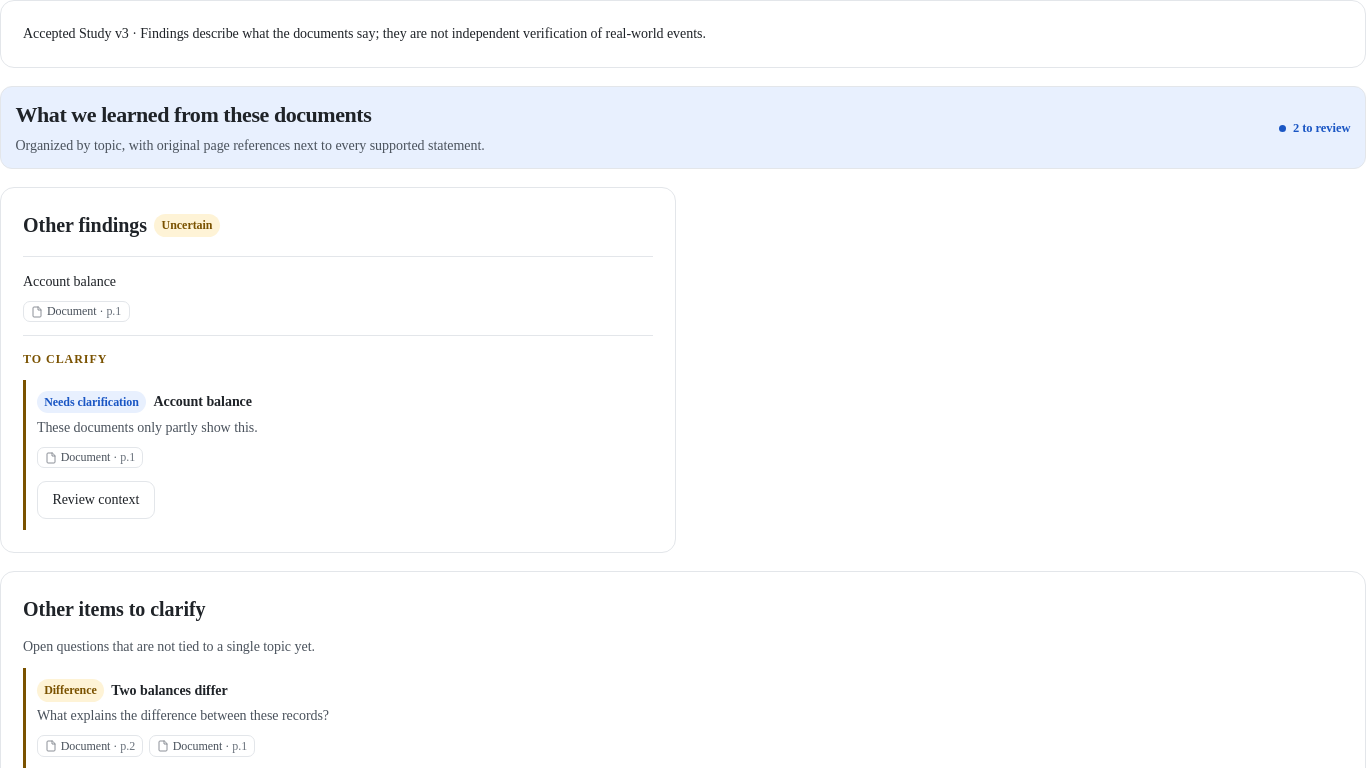
Test case: FindingsPageView evidence flow › opens the evidence view with spine context and comparison for conflicts
The width and height of the screenshot is (1366, 768).
What coordinates should you click on to do the following:
click the button "Review context"
I would click on:
 (96, 500)
Its box is [37,481,155,519].
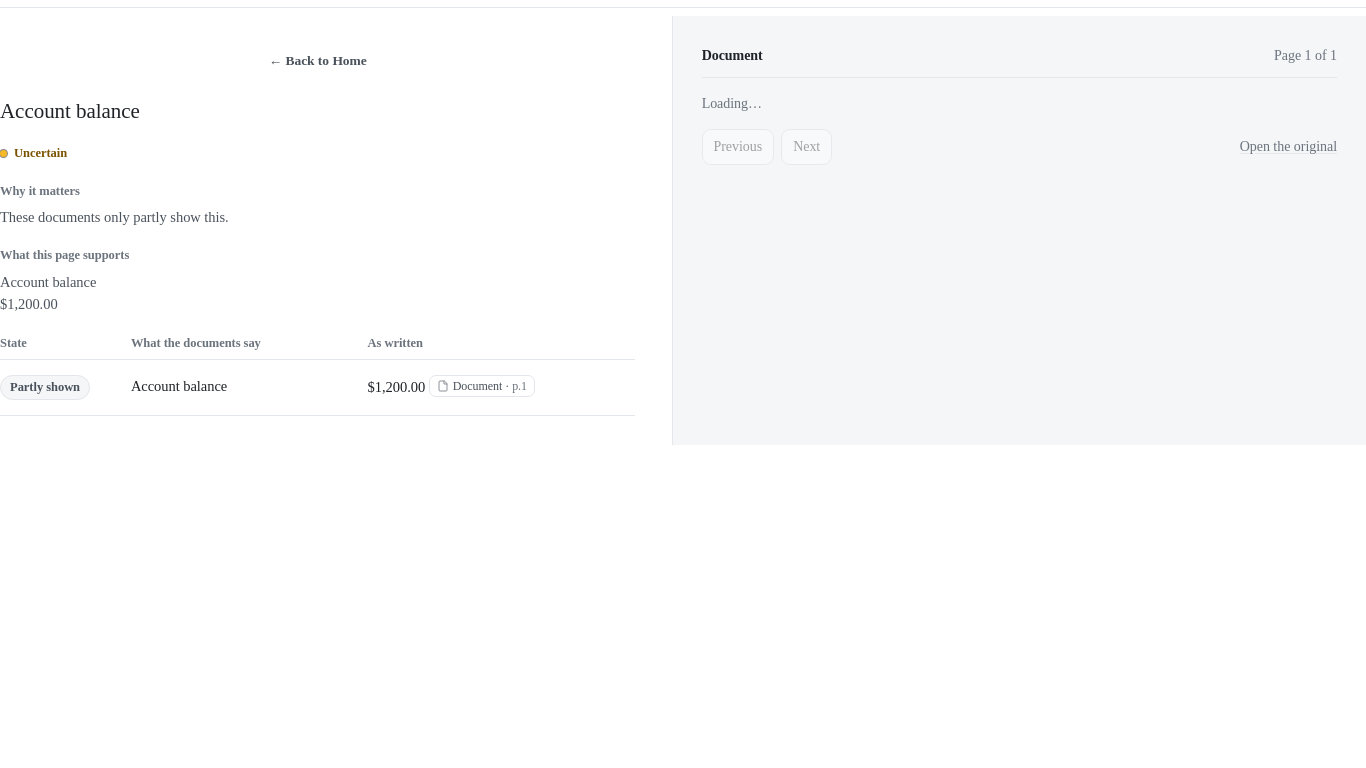
Expected: the text "These documents only partly show this." is shown, [0,209,229,225]
Expected: the table with test id "establish-table" is shown, [0,334,635,416]
What coordinates should you click on to do the following:
click the button "← Back to Home"
I would click on:
 (318, 62)
Its box is [0,44,635,78].
(page scrolled)
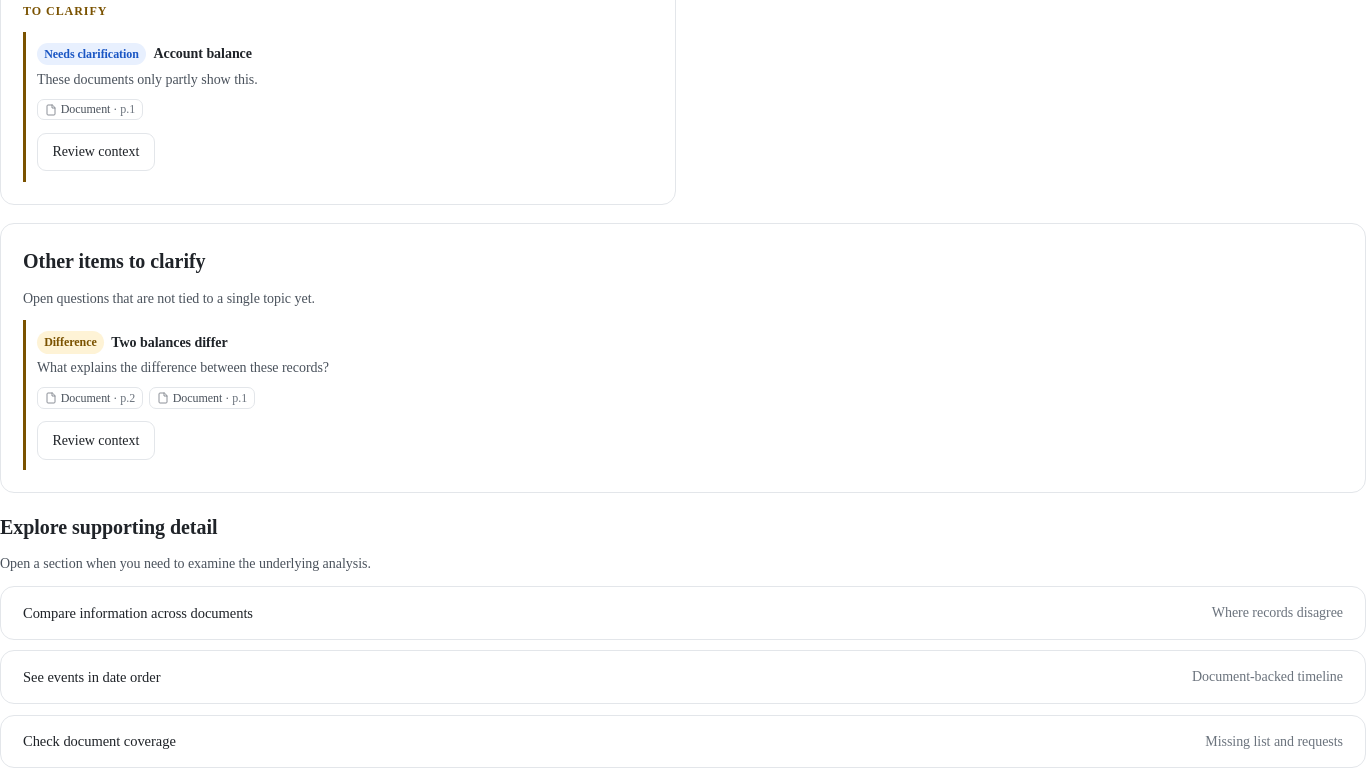
Expected: the button "Review context" below "Two balances differ" is shown
What coordinates should you click on to do the following:
click the button "Review context" below "Two balances differ"
I would click on:
 (96, 440)
Its box is [37,421,155,460].
(page scrolled)
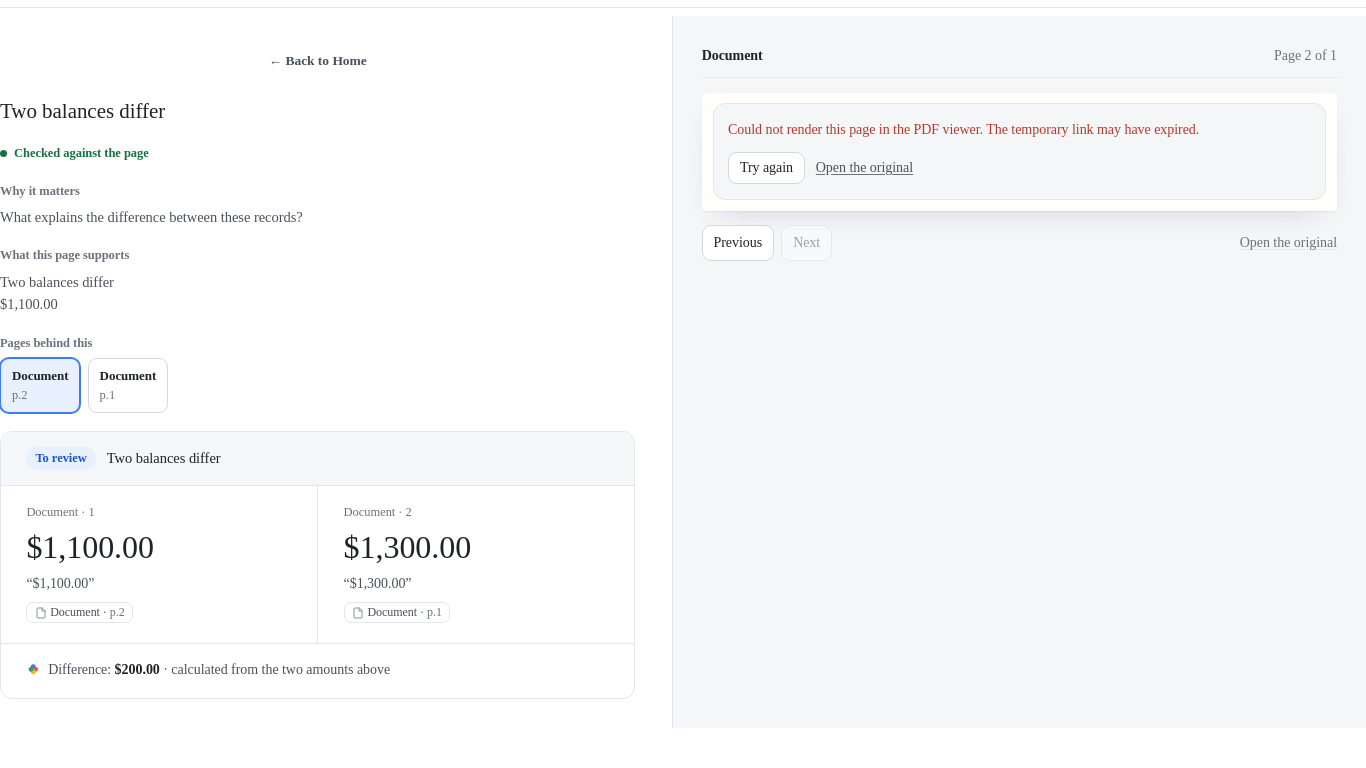
Expected: the element with test id "comparison-card" is shown, [0,431,635,699]
